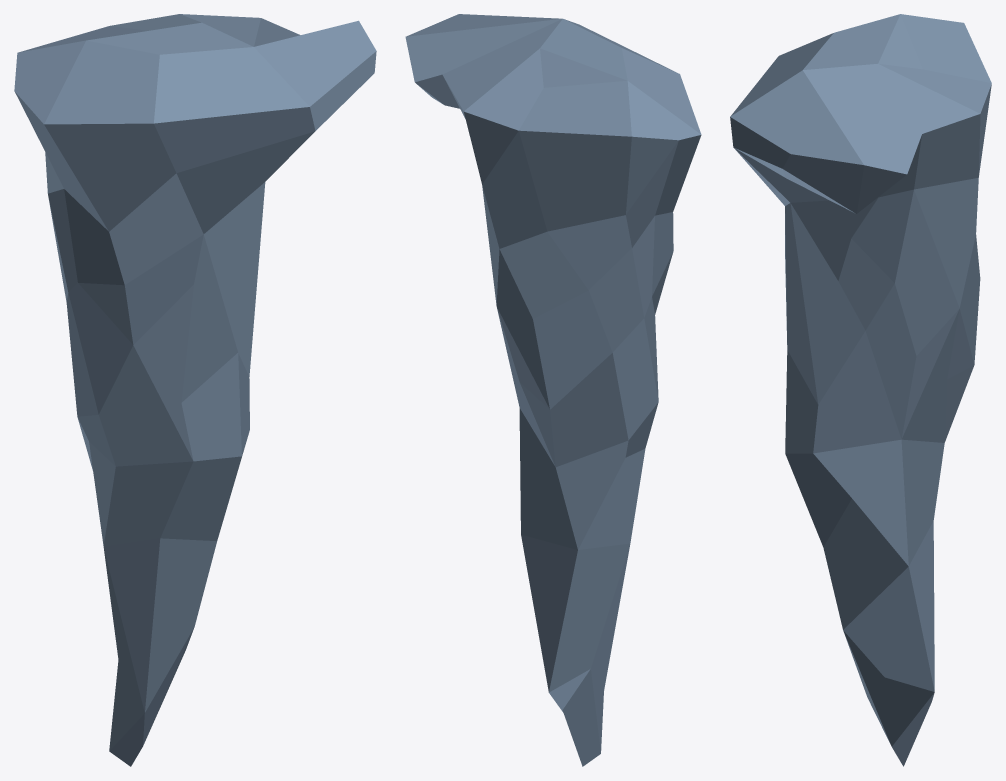
Rendered from low-poly_stalactite.glb.
The picture shows the model from 3 angles, left to right: view 1: azimuth 30°, elevation 25°; view 2: azimuth 150°, elevation 25°; view 3: azimuth 270°, elevation 25°; orthographic projection. The views are drawn at different scales.
Visible parts, largest first — view 1: Stalactite01; view 2: Stalactite01; view 3: Stalactite01.
Boxes of the visible parts, x1=… form: Stalactite01: x1=14, y1=14, x2=376, y2=766; Stalactite01: x1=405, y1=14, x2=701, y2=766; Stalactite01: x1=730, y1=14, x2=991, y2=766.
Bounding box in the file's own units: 0.6435 × 1.43 × 0.4648.
